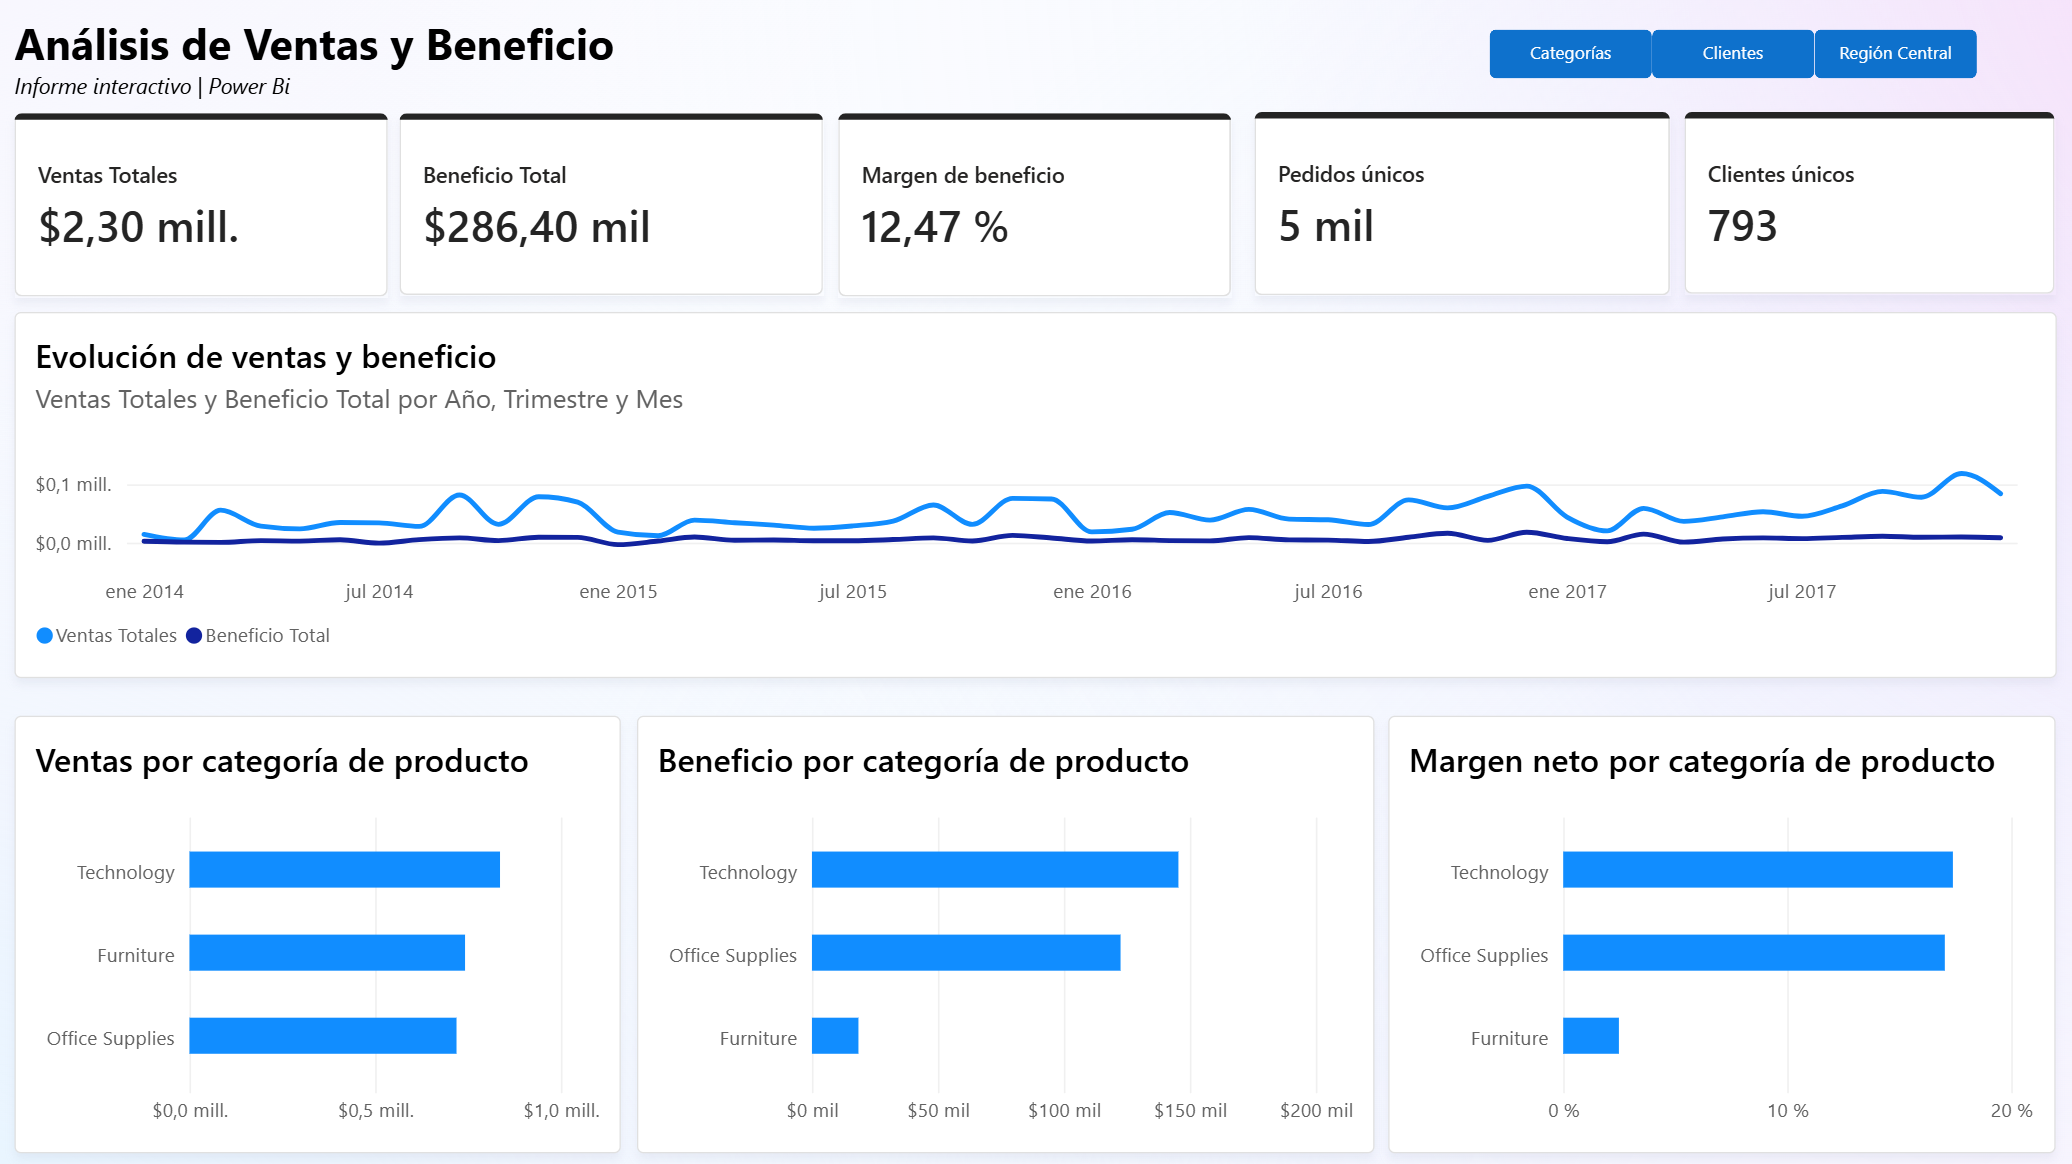

The dashboard page shown, as its layout file describes it:
{"tool":"powerbi","page":{"name":"Resumen general","canvas":[1280,720],"ordinal":1},"visuals":[{"type":"cardVisual","fields":{"Data":["Sample - Superstore._Distinct_Customers"]},"box":[1040.1,70.9,228.6,112.5],"z":0},{"type":"cardVisual","fields":{"Data":["Sample - Superstore._Net_Profit_Margin"]},"box":[518.3,71.8,242.7,113.4],"z":1000},{"type":"cardVisual","fields":{"Data":["Sample - Superstore._Total_Profit"]},"box":[248.1,71.8,261.4,112.5],"z":2000},{"type":"cardVisual","fields":{"Data":["Sample - Superstore._Total_Sales"]},"box":[10.6,71.8,230.3,113.4],"z":3000},{"type":"cardVisual","fields":{"Data":["Sample - Superstore._Distinct_Orders"]},"box":[775.2,70.9,256.9,113.4],"z":4000},{"type":"lineChart","title":"Evolución de ventas y beneficio","fields":{"Category":["Sample - Superstore.Order Date.Variación.Jerarquía de fechas.Año","Sample - Superstore.Order Date.Variación.Jerarquía de fechas.Trimestre","Sample - Superstore.Order Date.Variación.Jerarquía de fechas.Mes"],"Y":["Sample - Superstore.Ventas Totales","Sample - Superstore.Beneficio Total"]},"box":[10.6,194,1258,225.9],"z":5000},{"type":"clusteredBarChart","title":"Ventas por categoría de producto","fields":{"Category":["Sample - Superstore.Category"],"Y":["Sample - Superstore._Total_Sales"]},"box":[10.6,443,373.9,269.3],"z":6000},{"type":"clusteredBarChart","title":"Beneficio por categoría de producto","fields":{"Category":["Sample - Superstore.Category"],"Y":["Sample - Superstore._Total_Profit"]},"box":[394.2,443,454.5,269.3],"z":7000},{"type":"clusteredBarChart","title":"Margen neto por categoría de producto","fields":{"Category":["Sample - Superstore.Category"],"Y":["Sample - Superstore._Net_Profit_Margin"]},"box":[857.6,443,411.1,269.3],"z":8000},{"type":"textbox","box":[10.6,9.7,481.1,70.9],"z":9000},{"type":"actionButton","box":[919.6,20.4,100.1,30.1],"z":10000},{"type":"actionButton","box":[1019.7,20.4,100.1,30.1],"z":11000},{"type":"actionButton","box":[1119.8,20.4,100.1,30.1],"z":12000}]}

Visuals, with their boxes in screenshot pixels (x1, y1, x2, y2), scaled from the page's 1280x720 canvas onto the 2072x1164 screenshot:
cardVisual - Sample - Superstore._Distinct_Customers: [left=1684, top=115, right=2054, bottom=296]
cardVisual - Sample - Superstore._Net_Profit_Margin: [left=839, top=116, right=1232, bottom=299]
cardVisual - Sample - Superstore._Total_Profit: [left=402, top=116, right=825, bottom=298]
cardVisual - Sample - Superstore._Total_Sales: [left=17, top=116, right=390, bottom=299]
cardVisual - Sample - Superstore._Distinct_Orders: [left=1255, top=115, right=1671, bottom=298]
"Evolución de ventas y beneficio" lineChart: [left=17, top=314, right=2054, bottom=679]
"Ventas por categoría de producto" clusteredBarChart: [left=17, top=716, right=622, bottom=1152]
"Beneficio por categoría de producto" clusteredBarChart: [left=638, top=716, right=1374, bottom=1152]
"Margen neto por categoría de producto" clusteredBarChart: [left=1388, top=716, right=2054, bottom=1152]
textbox: [left=17, top=16, right=796, bottom=130]
actionButton: [left=1489, top=33, right=1651, bottom=82]
actionButton: [left=1651, top=33, right=1813, bottom=82]
actionButton: [left=1813, top=33, right=1975, bottom=82]
